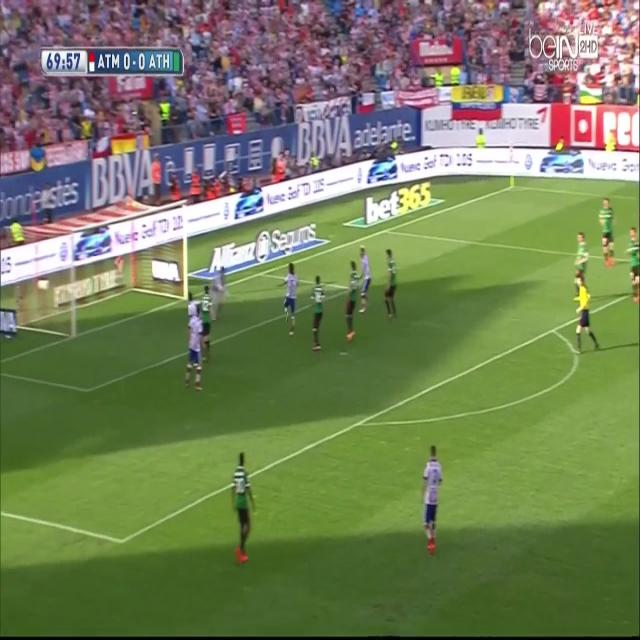Player: (230, 450, 257, 569), (422, 443, 444, 558), (183, 306, 205, 389), (278, 260, 300, 338), (343, 258, 361, 346), (598, 192, 618, 269), (310, 272, 328, 356), (382, 247, 400, 324), (625, 225, 640, 302), (200, 283, 213, 365), (359, 243, 372, 318), (574, 229, 591, 280)
Referee: (572, 274, 599, 358)
